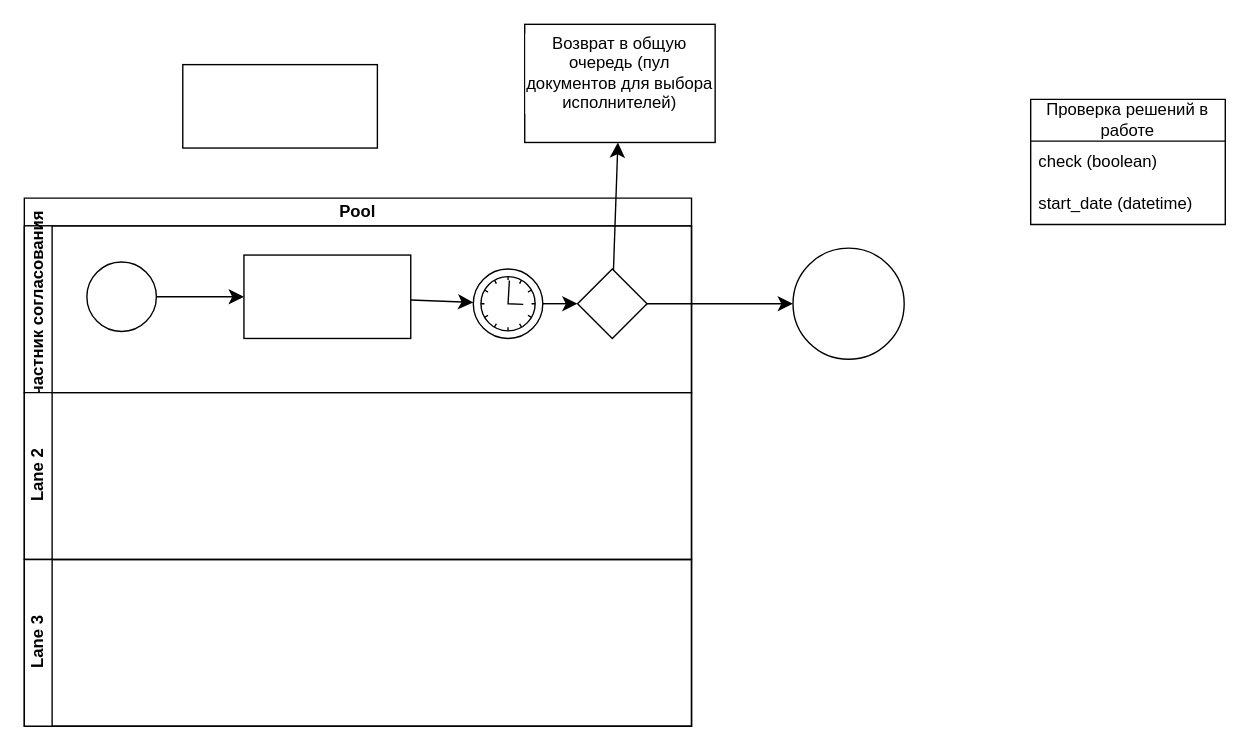
Image size: 1250x751. Some labels were removed from this diagram. The shapes that lost their labels are listed below. From the top down, each one's centre as x and y in pixels, then its label:
the point at 279,105: Решение (Документ)
the point at 327,296: Согласование
the point at 611,303: Согласовал?
